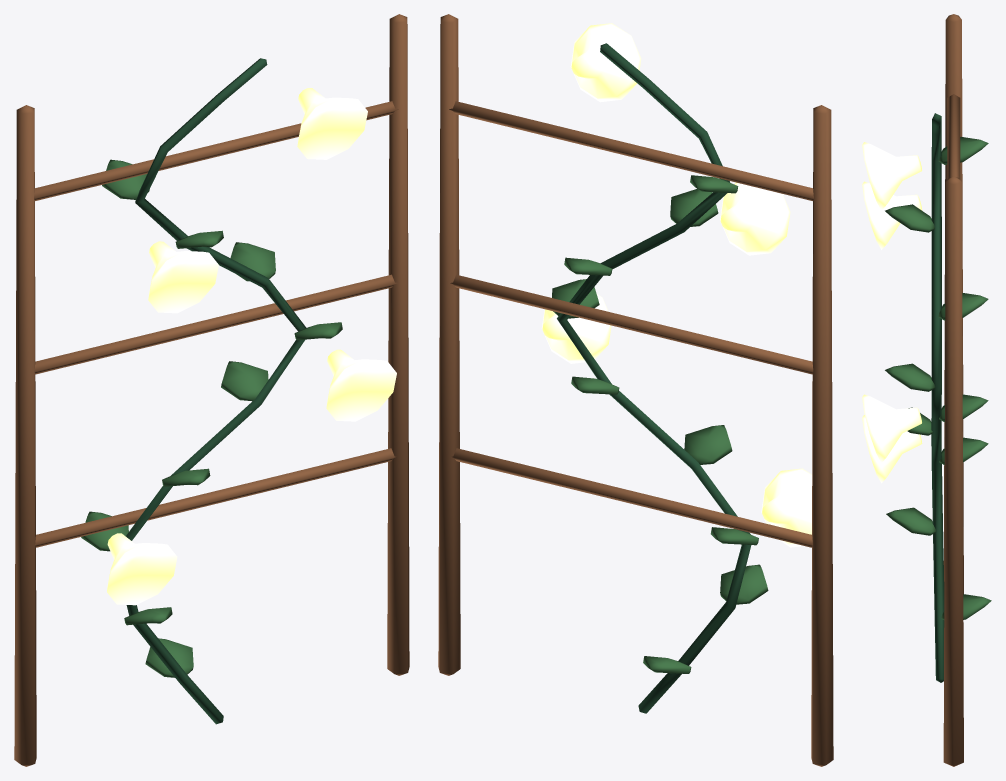
The model's file is moonflowers.glb.
3 renders of one model, left to right at view 1: azimuth 30°, elevation 25°; view 2: azimuth 150°, elevation 25°; view 3: azimuth 270°, elevation 25°, orthographic. The views are drawn at different scales.
Parts seen in each view (by area): view 1: moonflowers, flower_2, flower_3, flower_1, flower_4; view 2: moonflowers, flower_3, flower_4, flower_1, flower_2; view 3: moonflowers, flower_4, flower_2, flower_3, flower_1.
Boxes of the visible parts, x1=… form: moonflowers: x1=14, y1=14, x2=409, y2=766; flower_2: x1=326, y1=349, x2=396, y2=421; flower_3: x1=148, y1=241, x2=218, y2=313; flower_1: x1=107, y1=533, x2=177, y2=605; flower_4: x1=297, y1=88, x2=367, y2=159; moonflowers: x1=438, y1=14, x2=833, y2=766; flower_3: x1=720, y1=182, x2=790, y2=255; flower_4: x1=570, y1=23, x2=641, y2=102; flower_1: x1=761, y1=468, x2=812, y2=547; flower_2: x1=541, y1=293, x2=611, y2=363; moonflowers: x1=885, y1=14, x2=991, y2=766; flower_4: x1=862, y1=142, x2=921, y2=210; flower_2: x1=862, y1=394, x2=921, y2=462; flower_3: x1=862, y1=181, x2=921, y2=249; flower_1: x1=862, y1=415, x2=922, y2=483.
Bounding box in the file's own units: 0.9452 × 1.53 × 0.3042.
